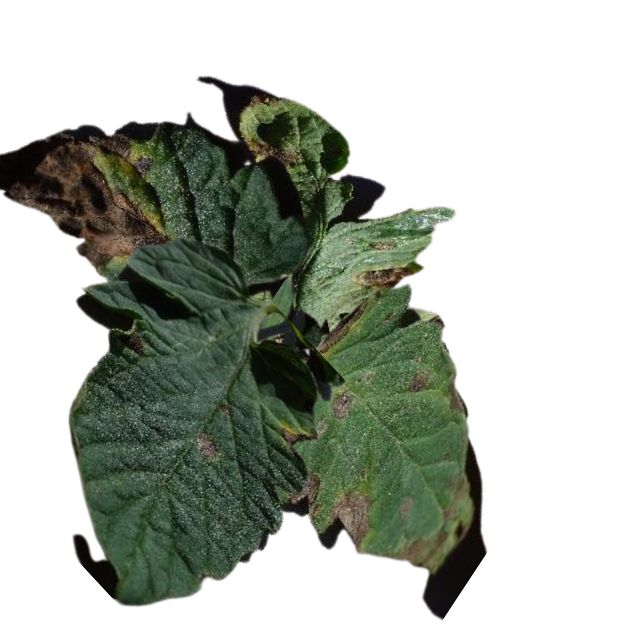Early_blight: (4, 134, 173, 269), (332, 488, 374, 552), (319, 303, 366, 356), (244, 134, 303, 166), (288, 469, 322, 520), (356, 262, 415, 290), (446, 380, 468, 417), (194, 430, 219, 460), (329, 392, 352, 418), (284, 426, 314, 444), (408, 370, 428, 394), (250, 94, 282, 108), (126, 330, 144, 354)
